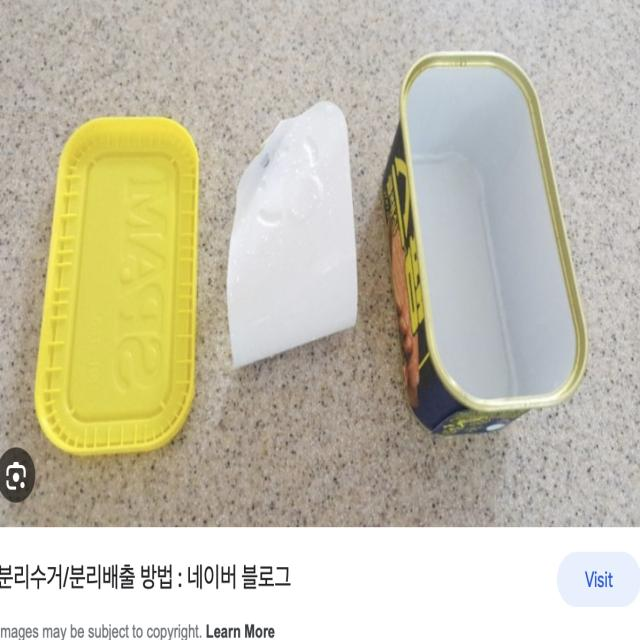recyclable: (378, 19, 596, 454), (32, 82, 204, 460), (222, 76, 367, 387)
